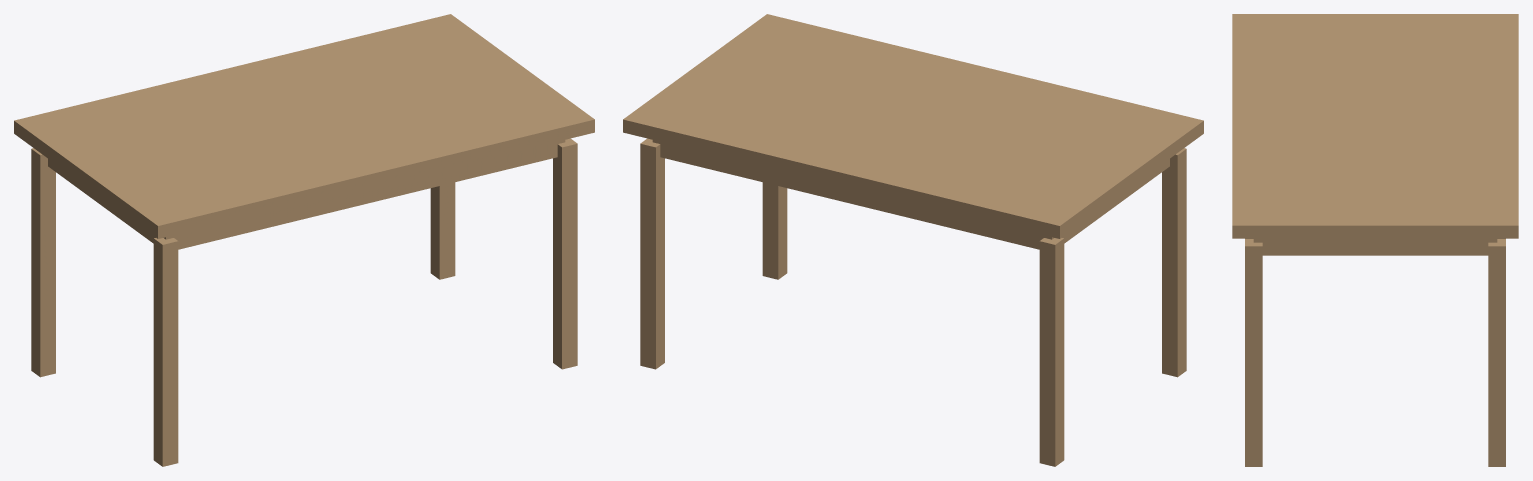
File: table.glb
3 renders of one model, left to right at view 1: azimuth 30°, elevation 25°; view 2: azimuth 150°, elevation 25°; view 3: azimuth 270°, elevation 25°, orthographic.
Visible parts, largest first — view 1: table; view 2: table; view 3: table.
Part boxes in pixels (bbox=[...]): table: bbox=[14, 14, 594, 466]; table: bbox=[623, 14, 1203, 466]; table: bbox=[1232, 14, 1518, 466].
Size of the model in its own units: 1.4 by 0.76 by 0.8.
